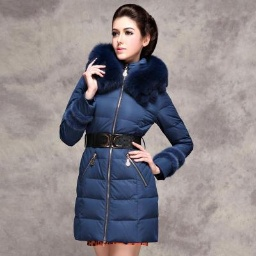face: (107, 1, 163, 68)
